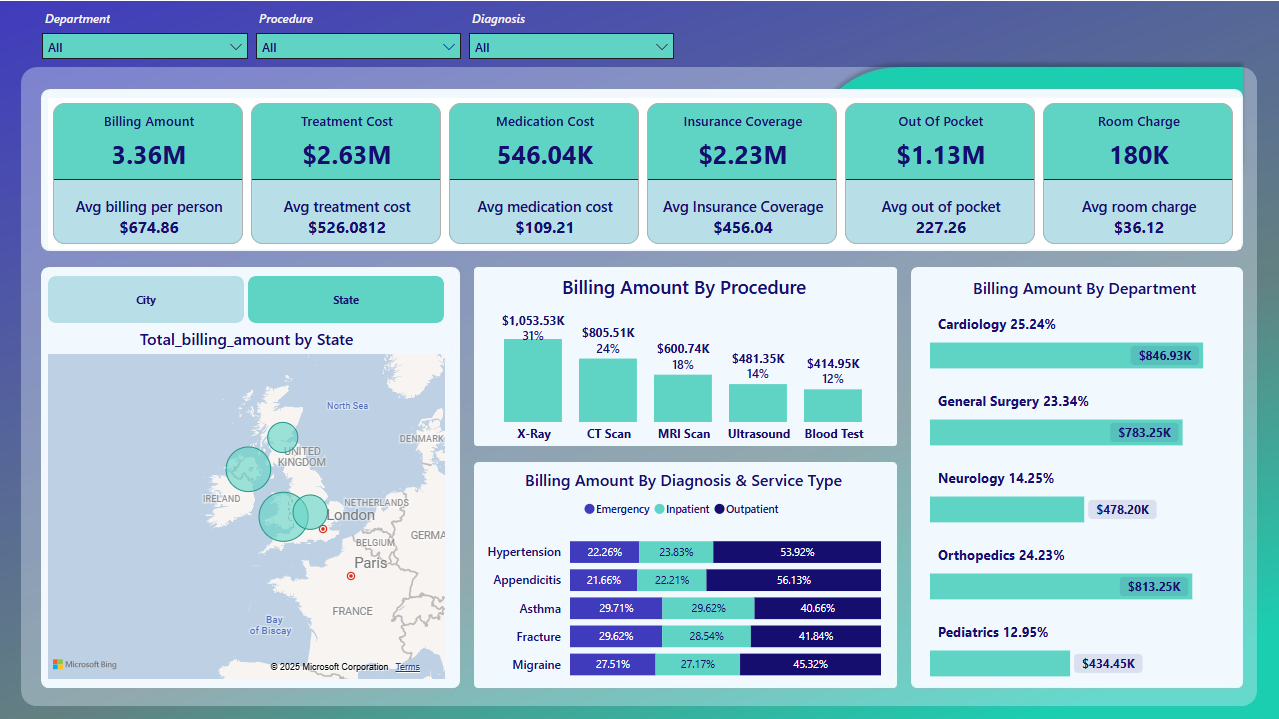

Layout of this report page (visuals, bound fields, positions):
{"tool":"powerbi","page":{"name":"Dashboard","canvas":[1500,800],"ordinal":0},"visuals":[{"type":"cardVisual","fields":{"Data":["_Measure Table.Total_billing_amount","_Measure Table.Total_treatment_cost","_Measure Table.Total_medication_cost","_Measure Table.Total_insurance_coverage","_Measure Table.Out_of_Pocket","_Measure Table.Total_room_charge"]},"box":[159,134.6,1193.2,151.2],"z":0},{"type":"map","fields":{"Category":["cities.State"],"Size":["_Measure Table.Total_billing_amount"]},"box":[154.1,364.9,406.8,356.1],"z":1000},{"type":"advancedSlicerVisual","fields":{"Values":["Location.Location"]},"box":[154.1,308.3,406.8,56.6],"z":1001},{"type":"columnChart","title":"Billing Amount By Procedure","fields":{"Category":["procedures.Procedure"],"Y":["_Measure Table.Total_billing_amount"]},"box":[579.5,311.2,430.2,177.6],"z":1002},{"type":"hundredPercentStackedBarChart","title":"Billing Amount By Diagnosis & Service Type","fields":{"Category":["diagnoses.Diagnosis"],"Y":["_Measure Table.Total_billing_amount"],"Series":["visits.Service Type"]},"box":[592.2,506.3,404.9,222.4],"z":1003},{"type":"clusteredBarChart","title":"Billing Amount By Department","fields":{"Category":["departments.Department"],"Y":["_Measure Table.Blank Measure","_Measure Table.Total_billing_amount"]},"box":[1036.1,314.1,319,406.8],"z":1004},{"type":"slicer","fields":{"Values":["departments.Department"]},"box":[143.4,42,225.4,58.5],"z":1005},{"type":"slicer","fields":{"Values":["diagnoses.Diagnosis"]},"box":[569.8,42,225.4,58.5],"z":1006},{"type":"slicer","fields":{"Values":["procedures.Procedure"]},"box":[357.1,42,225.4,58.5],"z":1007}]}

Visuals, with their boxes on the page's 1500x800 design canvas (x1, y1, x2, y2). These are canvas units, not pixel positions in the 1279x719 screenshot, which may show the page scaled, cropped or inside an application window:
cardVisual - _Measure Table.Total_billing_amount x _Measure Table.Total_treatment_cost: region(159, 135, 1352, 286)
map - cities.State x _Measure Table.Total_billing_amount: region(154, 365, 561, 721)
advancedSlicerVisual - Location.Location: region(154, 308, 561, 365)
"Billing Amount By Procedure" columnChart: region(580, 311, 1010, 489)
"Billing Amount By Diagnosis & Service Type" hundredPercentStackedBarChart: region(592, 506, 997, 729)
"Billing Amount By Department" clusteredBarChart: region(1036, 314, 1355, 721)
slicer - departments.Department: region(143, 42, 369, 100)
slicer - diagnoses.Diagnosis: region(570, 42, 795, 100)
slicer - procedures.Procedure: region(357, 42, 582, 100)
